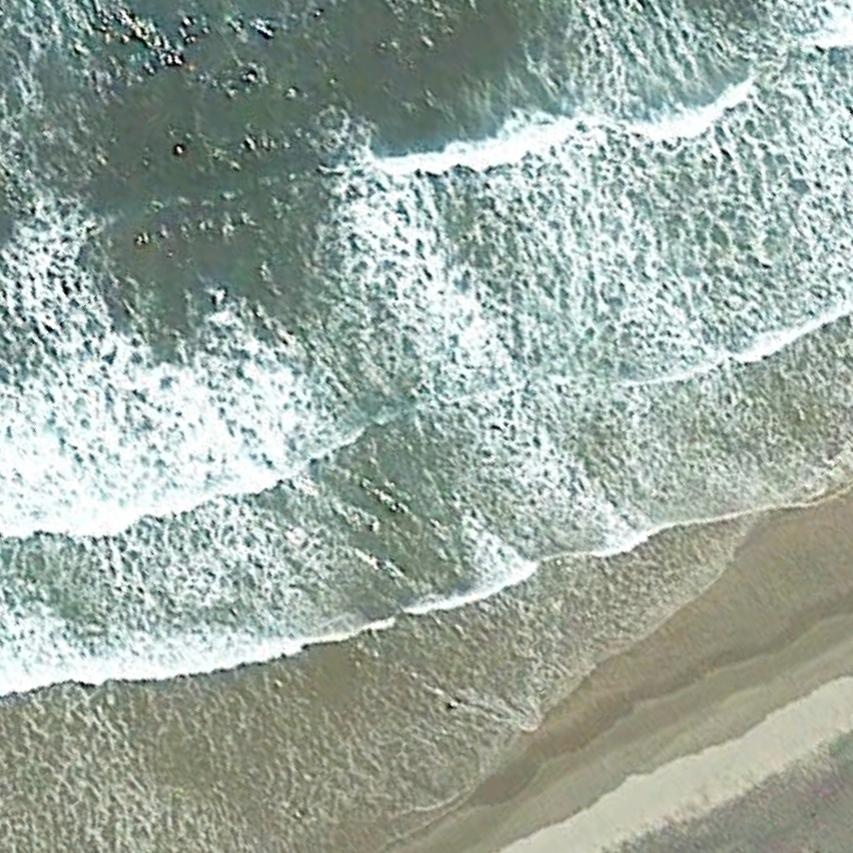rip_current: (105, 146, 526, 602)
